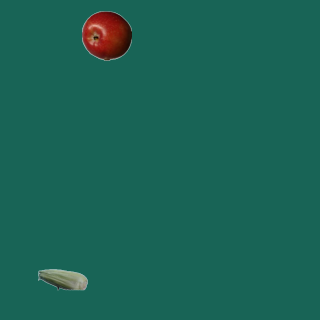Apple Braeburn: (81, 10, 131, 60)
Corn Husk: (37, 254, 87, 304)
